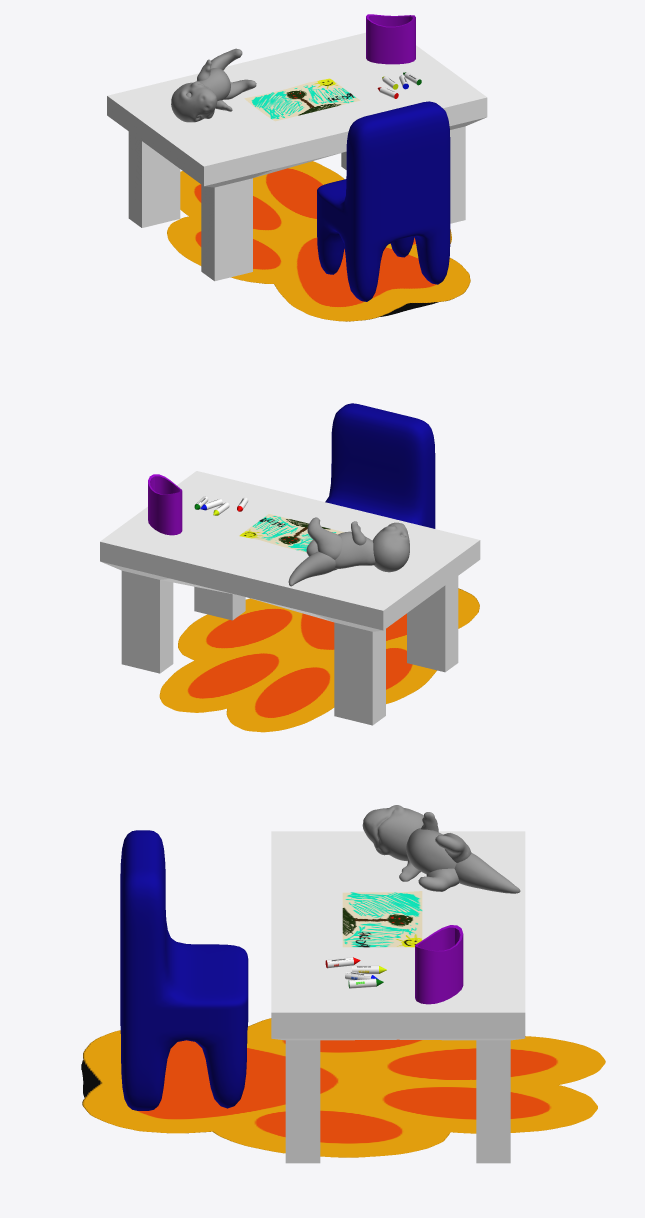
File: nursery scene.fbx
The picture shows the model from 3 angles, top to bottom: view 1: azimuth 30°, elevation 25°; view 2: azimuth 150°, elevation 25°; view 3: azimuth 270°, elevation 25°; orthographic projection. The views are drawn at different scales.
Visible parts, largest first — view 1: Box001, Box002, Plane002, dinosaur, Plane001, Cylinder007; view 2: Box001, Plane002, Box002, dinosaur, Cylinder007, Plane001; view 3: Box001, Plane002, Box002, dinosaur, Plane001, Cylinder007.
Part boxes in pixels (x1,y1,x2,y2): Box001: (107, 32, 487, 281); Box002: (317, 101, 450, 301); Plane002: (167, 161, 470, 321); dinosaur: (171, 48, 256, 122); Plane001: (244, 78, 360, 121); Cylinder007: (366, 14, 415, 64); Box001: (100, 471, 480, 725); Plane002: (159, 588, 479, 732); Box002: (325, 403, 435, 528); dinosaur: (288, 517, 409, 586); Cylinder007: (148, 474, 182, 535); Plane001: (239, 514, 343, 552); Box001: (271, 831, 525, 1163); Plane002: (81, 1018, 605, 1157); Box002: (120, 830, 248, 1110); dinosaur: (362, 805, 520, 893); Plane001: (342, 891, 422, 947); Cylinder007: (415, 925, 463, 1004).
Bounding box in the file's own units: 264 × 119 × 281.
